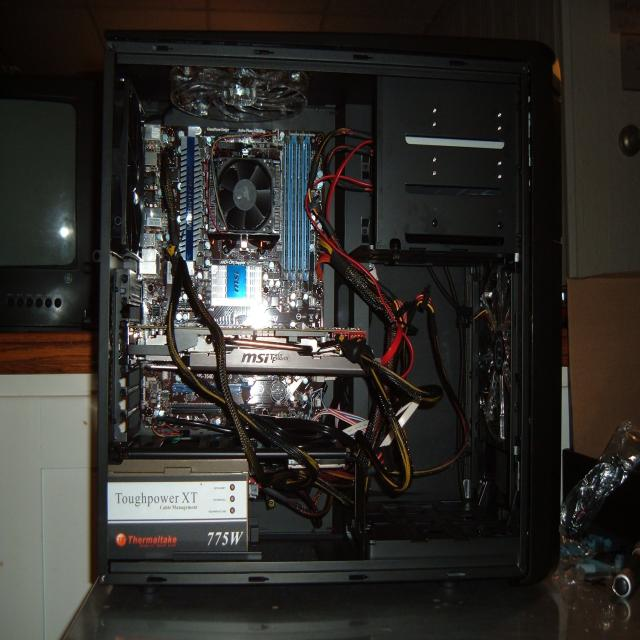electronics: (98, 33, 560, 583), (110, 123, 362, 445), (135, 124, 322, 329), (376, 74, 528, 256), (0, 76, 101, 329), (107, 459, 251, 560), (1, 99, 76, 265), (560, 421, 634, 532), (108, 78, 152, 254), (171, 65, 308, 121), (223, 326, 363, 375), (108, 269, 143, 441), (478, 268, 511, 440), (219, 158, 271, 232), (175, 293, 217, 383), (594, 472, 639, 539), (210, 264, 263, 314), (210, 263, 262, 306), (176, 326, 216, 370), (563, 449, 597, 498), (612, 542, 639, 597), (127, 334, 168, 359), (619, 125, 639, 156), (177, 303, 197, 326), (112, 359, 118, 374), (263, 317, 274, 323), (627, 462, 633, 470), (351, 331, 364, 334), (608, 501, 612, 508), (616, 493, 621, 498), (140, 336, 146, 339), (256, 320, 261, 323), (567, 483, 571, 486), (136, 176, 138, 181), (129, 251, 132, 253), (269, 317, 271, 320), (129, 108, 130, 112), (134, 336, 136, 338), (349, 331, 351, 333), (570, 533, 574, 534), (141, 151, 143, 153), (137, 336, 139, 337), (254, 554, 255, 556), (267, 273, 268, 274), (631, 440, 632, 441), (363, 333, 363, 334), (130, 258, 130, 260), (632, 529, 632, 530), (150, 215, 150, 216)
